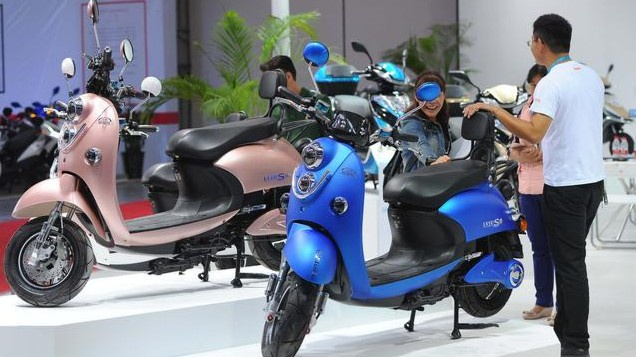non-vehicle: (6, 58, 300, 309), (264, 87, 519, 356)
